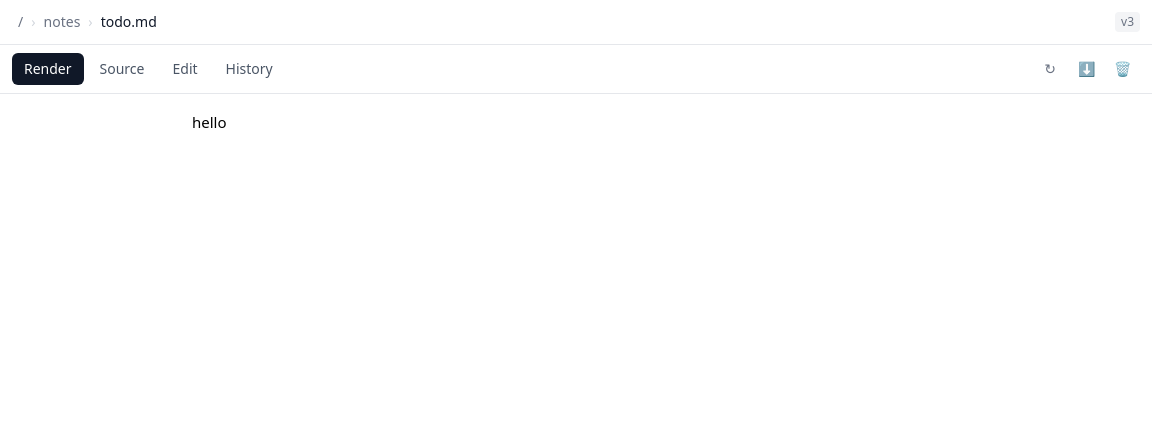
it: VfsFilePanel › editing › keeps the draft across tab switches and marks the Edit tab
Check: the text "hello" is shown, box [192,112,226,132]
Click the button "Edit" at (185, 69), box [160,53,210,85]
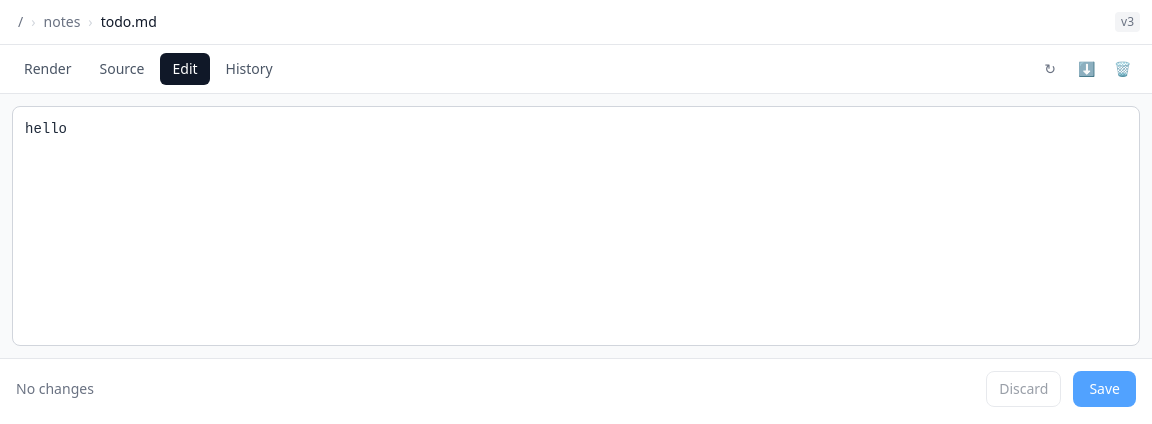
Replace the text in the text box named "File content" with "hello world" at (576, 226), box [12,106,1140,346]
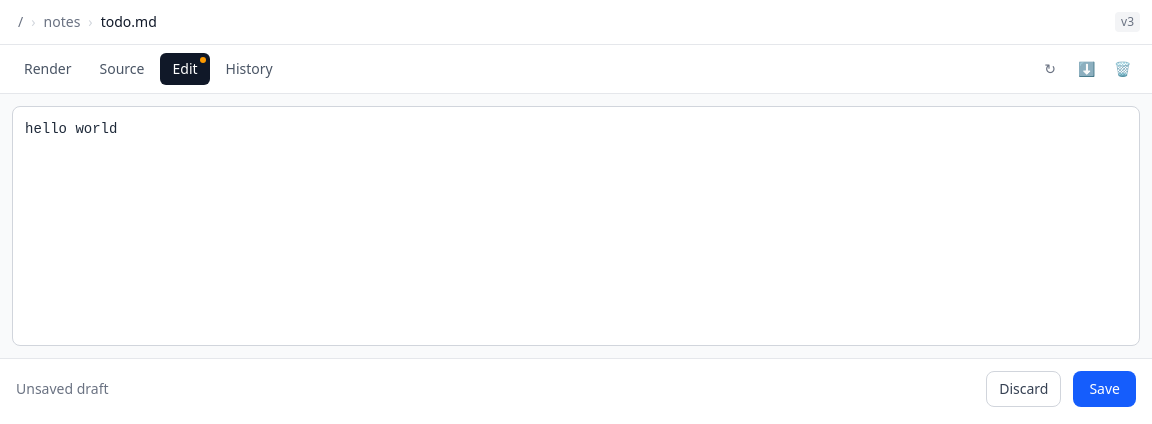
Check: the element titled "Unsaved draft" is shown, box [200,57,206,63]
Click the button "Source" at (122, 69), box [88,53,156,85]
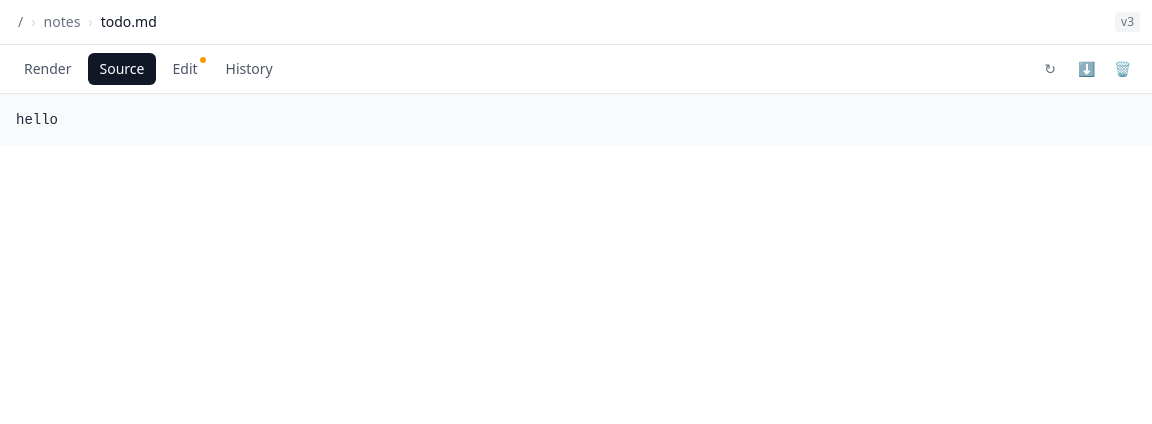
Check: the text "hello" is shown, box [16,112,58,128]
Click the button "Edit" at (185, 69), box [160,53,210,85]
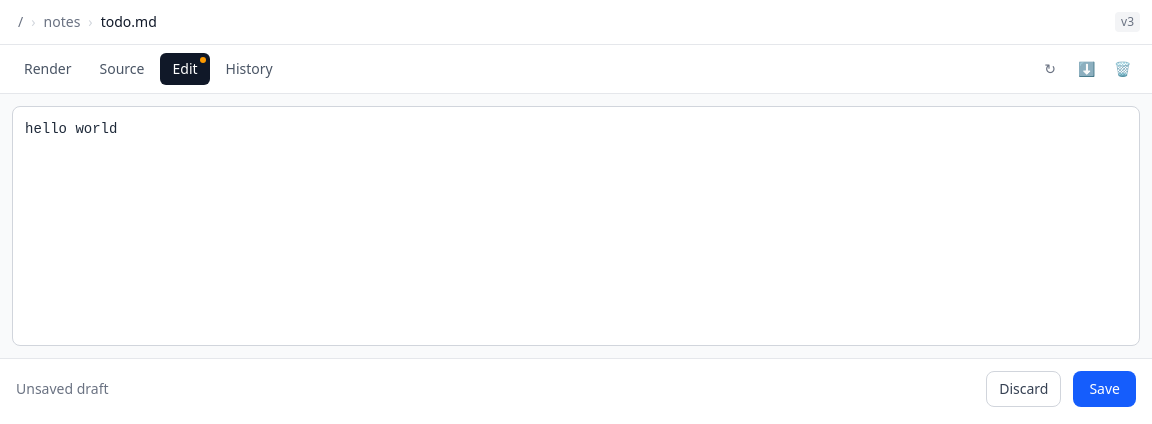
Check: the text box named "File content" holds "hello world", box [12,106,1140,346]
